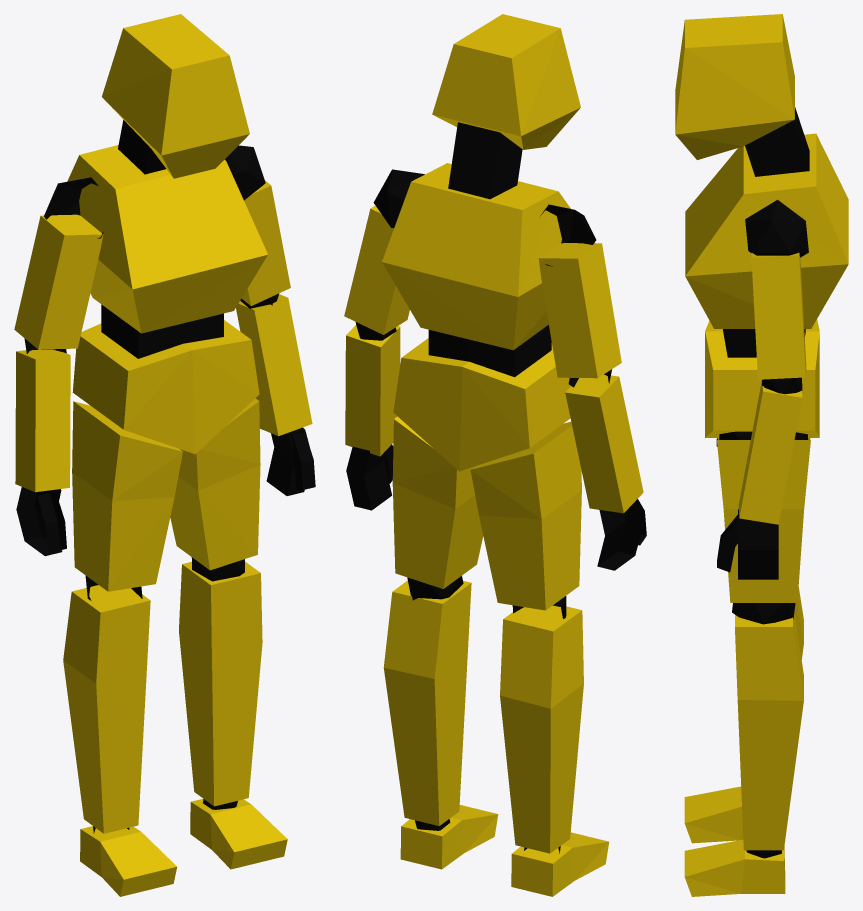
The model's file is Lowpolyhuman.dae.
3 renders of one model, left to right at view 1: azimuth 30°, elevation 25°; view 2: azimuth 150°, elevation 25°; view 3: azimuth 270°, elevation 25°, orthographic.
Visible parts, largest first — view 1: Icosphere.008; view 2: Icosphere.008; view 3: Icosphere.008.
Boxes of the visible parts, x1=… form: Icosphere.008: x1=14, y1=14, x2=315, y2=896; Icosphere.008: x1=344, y1=14, x2=646, y2=896; Icosphere.008: x1=675, y1=14, x2=848, y2=896.
Bounding box in the file's own units: 0.6176 × 0.3336 × 1.75.
